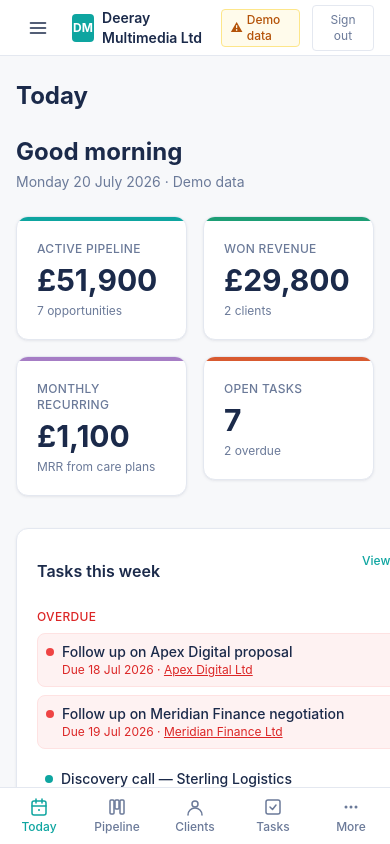
Scenario: MobileDrawer -- open state › dialog appears in the DOM after hamburger click
The width and height of the screenshot is (390, 844).
Click the button named "open navigation menu" at (38, 28), box [16,6,60,50]
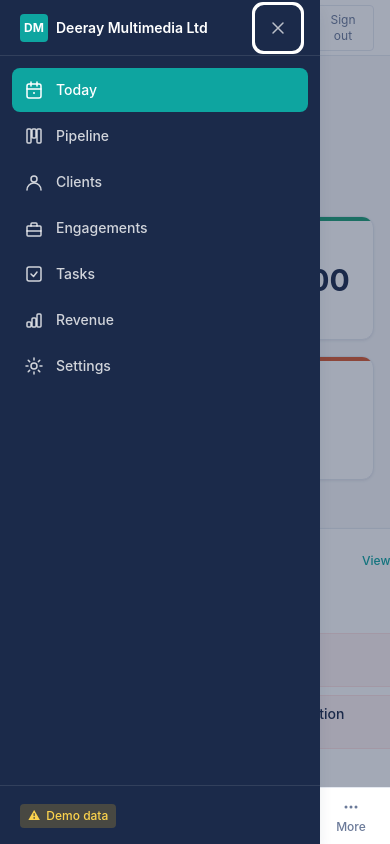
Check: the dialog named "navigation menu" is shown
